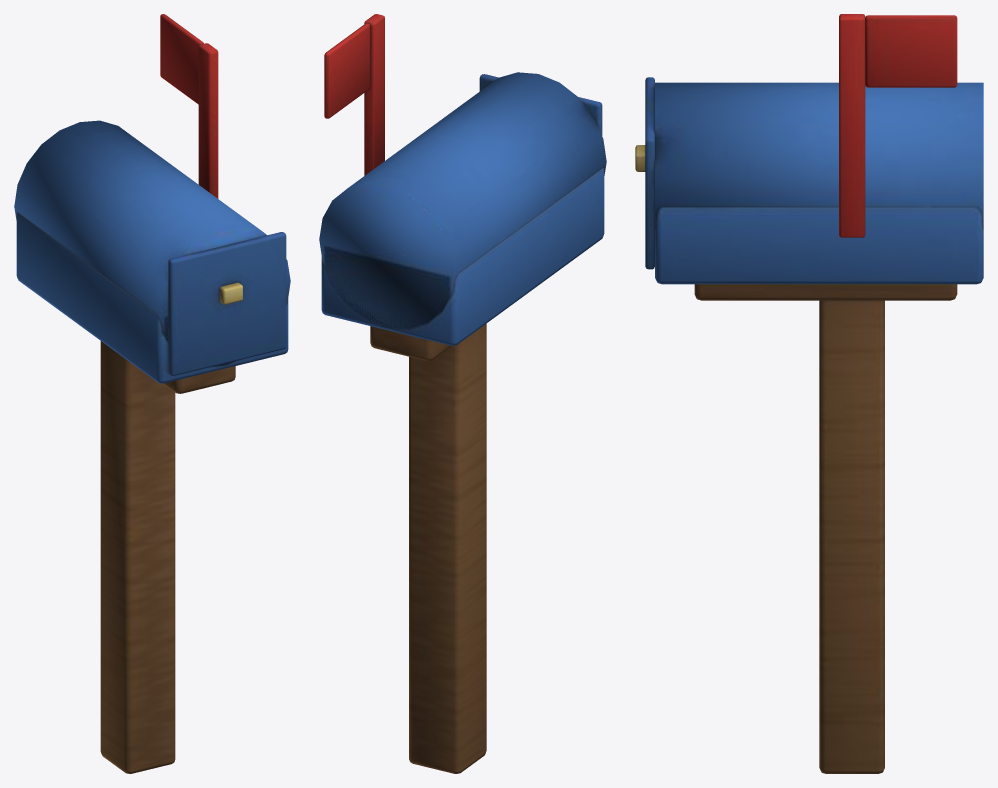
Rendered from mailbox_blue.glb.
3 views of the same model, side by side, from view 1: azimuth 30°, elevation 25°; view 2: azimuth 150°, elevation 25°; view 3: azimuth 270°, elevation 25° (orthographic). The views are drawn at different scales.
Visible parts, largest first — view 1: mailbox_blue, mailbox_blue_flag; view 2: mailbox_blue, mailbox_blue_flag; view 3: mailbox_blue, mailbox_blue_flag.
Boxes of the visible parts, box(x1,y1,x2,y2) form: mailbox_blue: box(14, 120, 290, 773); mailbox_blue_flag: box(160, 14, 218, 198); mailbox_blue: box(319, 72, 606, 773); mailbox_blue_flag: box(324, 14, 384, 175); mailbox_blue: box(635, 77, 983, 773); mailbox_blue_flag: box(839, 14, 957, 237).
Bounding box in the file's own units: 0.28 × 1.32 × 0.53.
5 materials, 5 textured.
